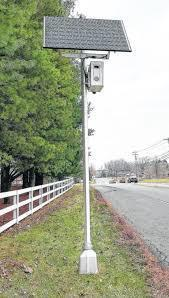Speed-Camera: (79, 56, 111, 96)
